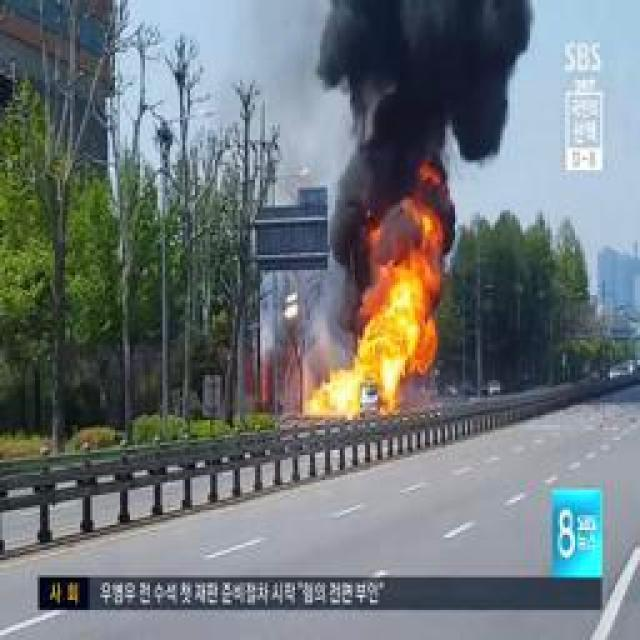Fire: (369, 275, 439, 381), (308, 378, 364, 412), (375, 388, 403, 409)
